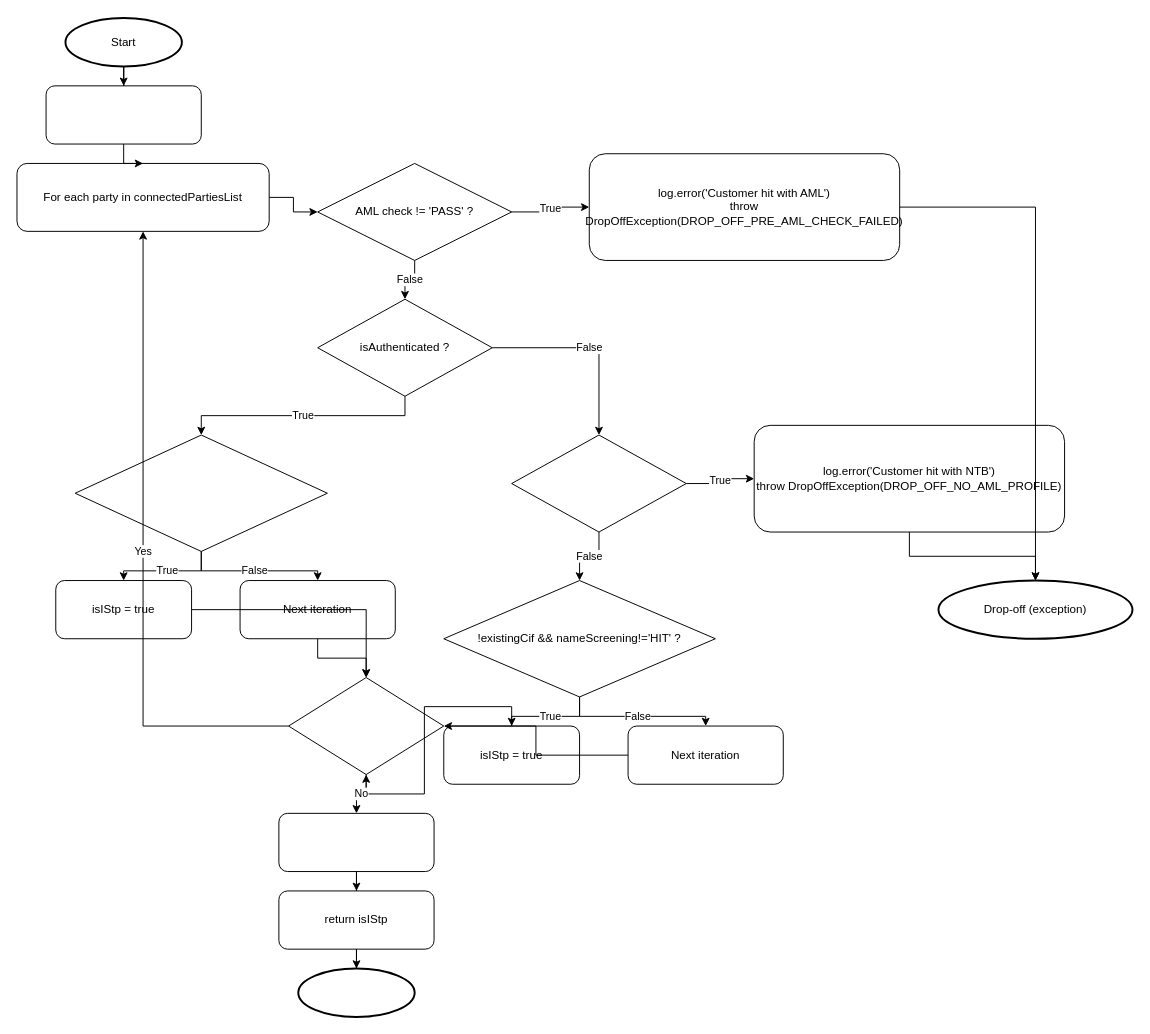
Some shapes in this 1150 by 1034 pixel diagram are drawn without their labels. Here are the shapes that lost their labels. From the top down, the centre of each, then its label:
At [123,114]: "isIStp = false".
At [200,492]: "!existingCif && nameScreening=='HIT' ?".
At [598,483]: "isNTBHit ?".
At [366,726]: "More parties?".
At [356,842]: "Loop completed".
At [356,992]: "End".
